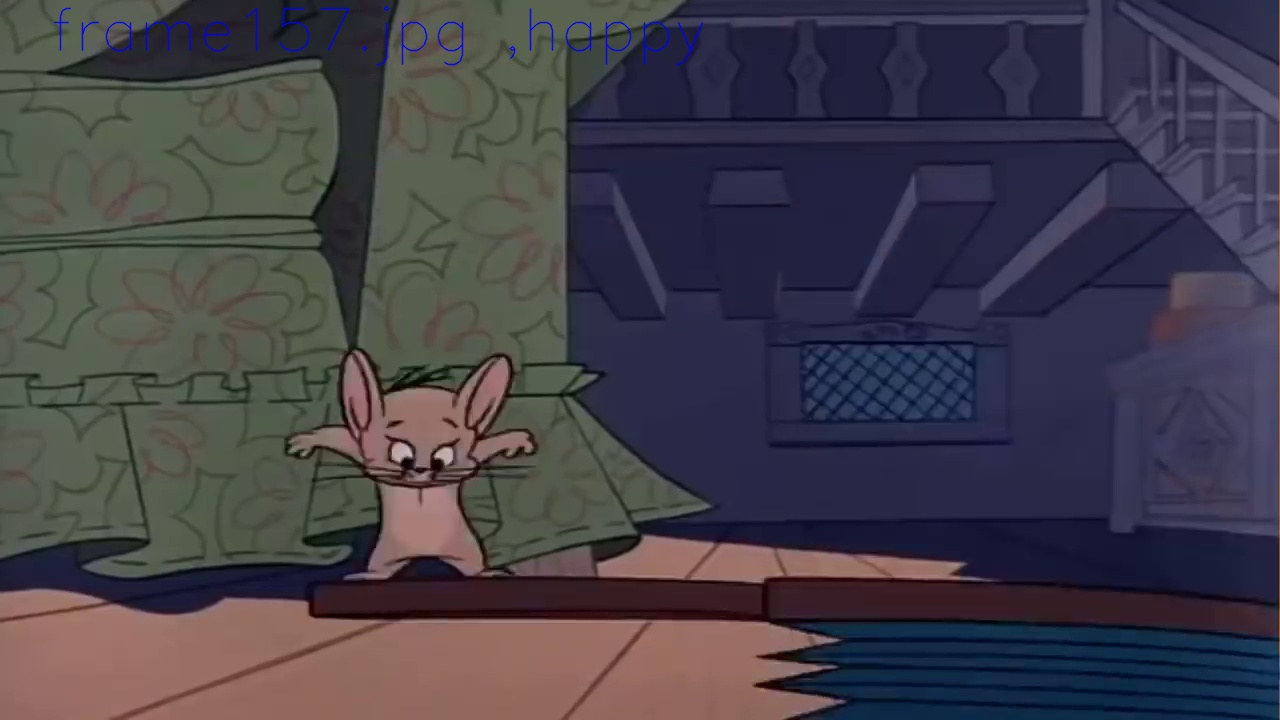happy: (385, 417, 460, 487)
